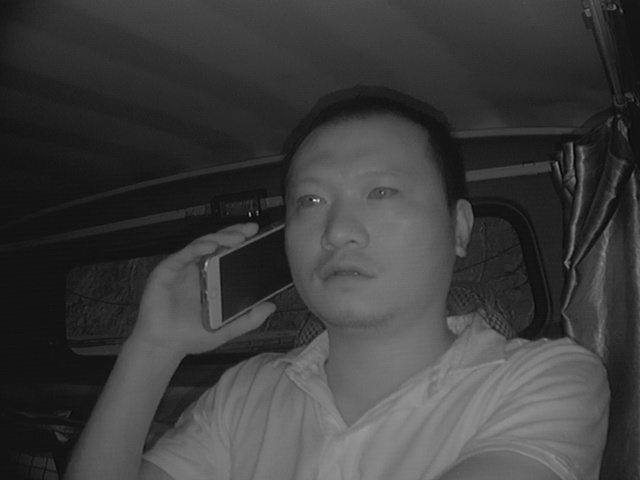hand: (128, 215, 269, 351)
